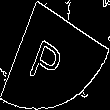P_NE: (34, 24, 76, 86)
